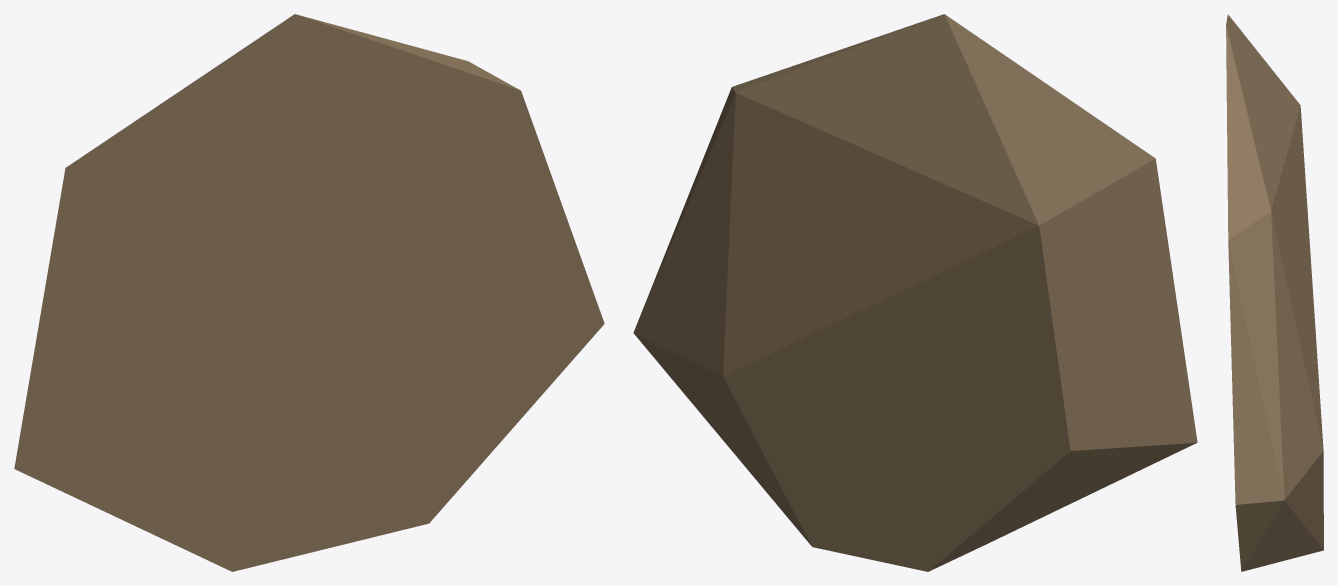
File: Rock11.fbx
3 renders of one model, left to right at view 1: azimuth 30°, elevation 25°; view 2: azimuth 150°, elevation 25°; view 3: azimuth 270°, elevation 25°, orthographic. The views are drawn at different scales.
Visible parts, largest first — view 1: Rock11; view 2: Rock11; view 3: Rock11.
Part boxes in pixels (x1,y1,x2,y2): Rock11: [14, 14, 604, 571]; Rock11: [633, 14, 1197, 571]; Rock11: [1226, 14, 1323, 571].
Size of the model in its own units: 12.54 by 11.22 by 2.04.
